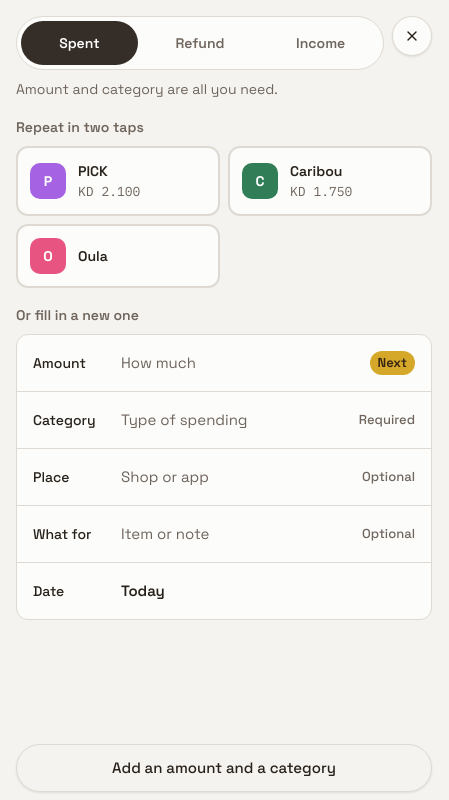
Test case: /log tile amount, in order (MOB-R71 C7) › shows last_amount, else the top item's amount, else none — and a tap fills that amount
The width and height of the screenshot is (449, 800).
Expected: the button "C Caribou KD 1.750" is shown, [228, 146, 432, 216]
Expected: the button "C Caribou KD 1.750" does not show "KD 1.250", [228, 146, 432, 216]
Click the button "P PICK KD 2.100" at (118, 181), box [16, 146, 220, 216]
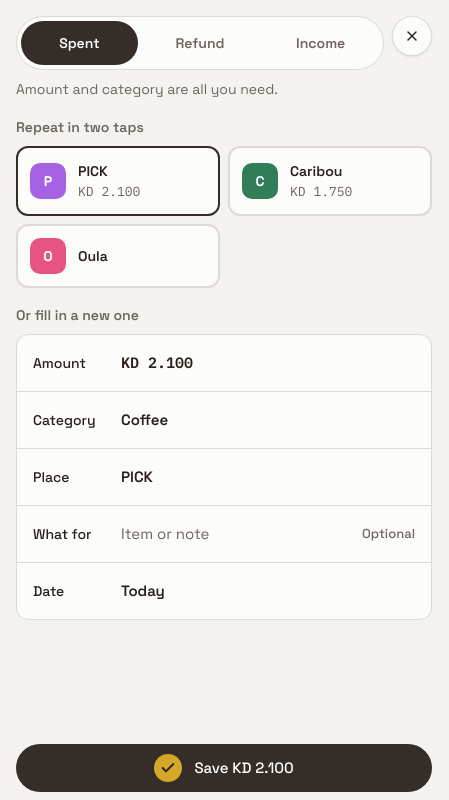
Result: the button "Amount KD 2.100" is shown at [17, 335, 431, 391]
